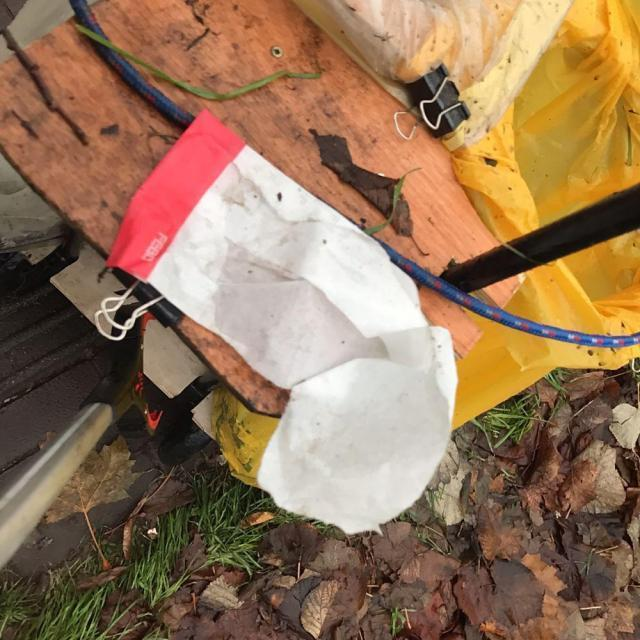Paper: (104, 103, 462, 540)
